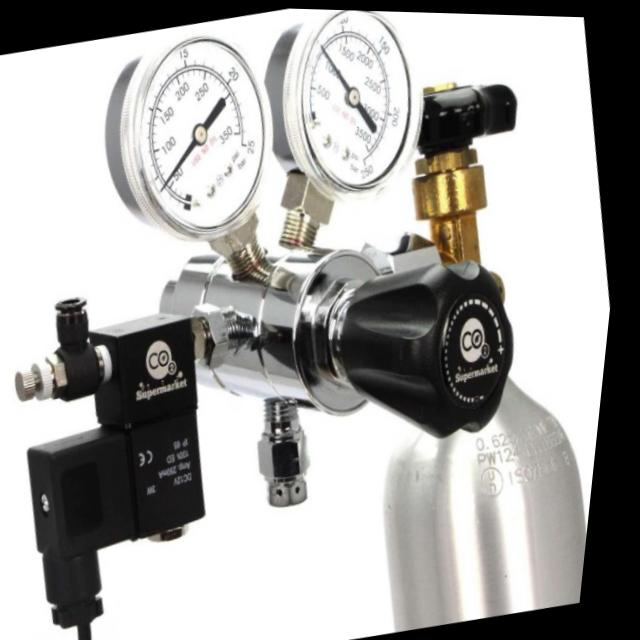ocr: (472, 407, 594, 506)
